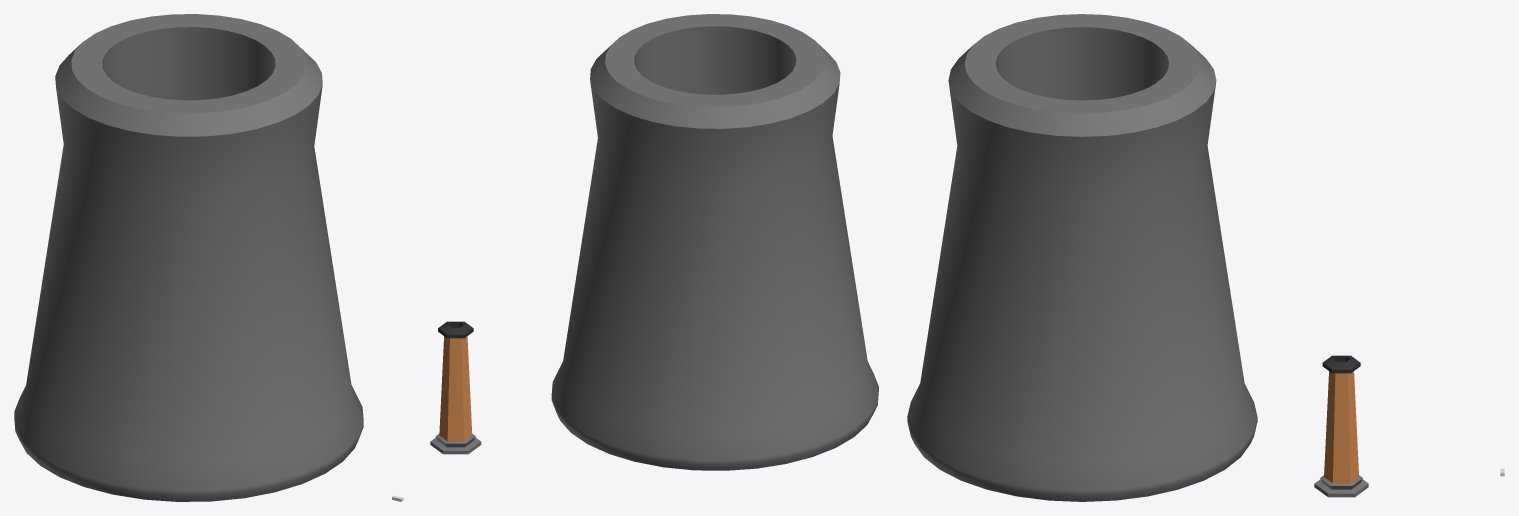
The model's file is Chimney props.fbx.
3 renders of one model, left to right at view 1: azimuth 30°, elevation 25°; view 2: azimuth 150°, elevation 25°; view 3: azimuth 270°, elevation 25°, orthographic. The views are drawn at different scales.
Parts seen in each view (by area): view 1: Cylinder.001; view 2: Cylinder.001, Cylinder; view 3: Cylinder.001, Cylinder.
Part boxes in pixels (left/top/right/bottom): Cylinder.001: left=14, top=14, right=363, bottom=501; Cylinder.001: left=551, top=14, right=878, bottom=470; Cylinder: left=430, top=321, right=481, bottom=454; Cylinder.001: left=907, top=14, right=1257, bottom=501; Cylinder: left=1314, top=355, right=1368, bottom=497.
Bounding box in the file's own units: 15123 × 16688 × 24487.
